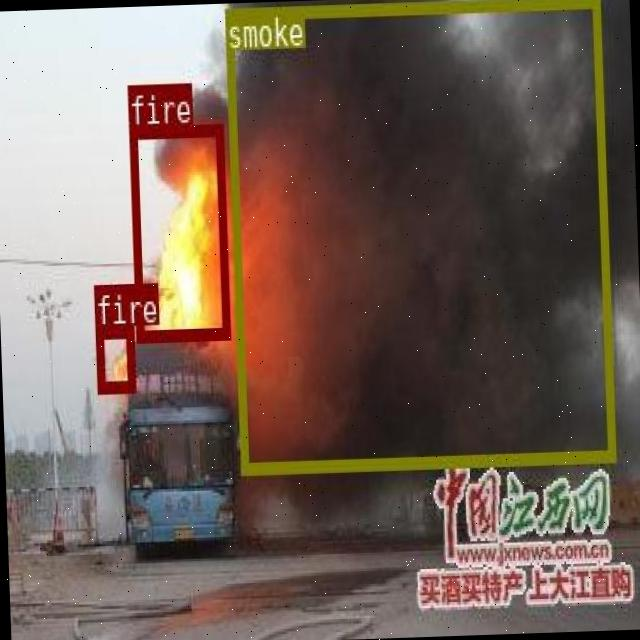fire: (128, 122, 228, 340), (95, 326, 133, 390)
smoke: (224, 0, 613, 472)
